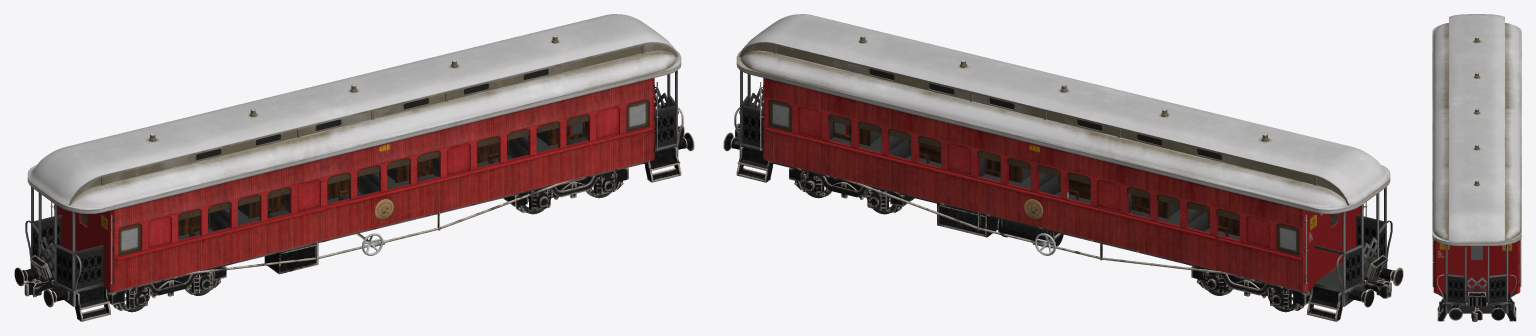
File: carriage.gltf
The picture shows the model from 3 angles, left to right: view 1: azimuth 30°, elevation 25°; view 2: azimuth 150°, elevation 25°; view 3: azimuth 270°, elevation 25°; orthographic projection. The views are drawn at different scales.
Parts seen in each view (by area): view 1: exterior, exterior_2sided, bogie, bogie.001, top_windows; view 2: exterior, exterior_2sided, bogie, bogie.001, top_windows; view 3: exterior, exterior_2sided, windows.
Boxes of the visible parts, x1,y1,x2,y2 form: exterior: [14, 14, 694, 321]; exterior_2sided: [32, 99, 675, 289]; bogie: [107, 266, 226, 310]; bogie.001: [503, 168, 628, 212]; top_windows: [196, 69, 548, 159]; exterior: [723, 14, 1403, 321]; exterior_2sided: [742, 99, 1385, 288]; bogie: [1191, 266, 1310, 310]; bogie.001: [789, 168, 914, 212]; top_windows: [869, 69, 1221, 159]; exterior: [1432, 14, 1521, 321]; exterior_2sided: [1447, 276, 1506, 303]; windows: [1471, 246, 1482, 259].
Size of the model in its own units: 20.88 by 4.86 by 3.38.
4 materials, 3 textured.
